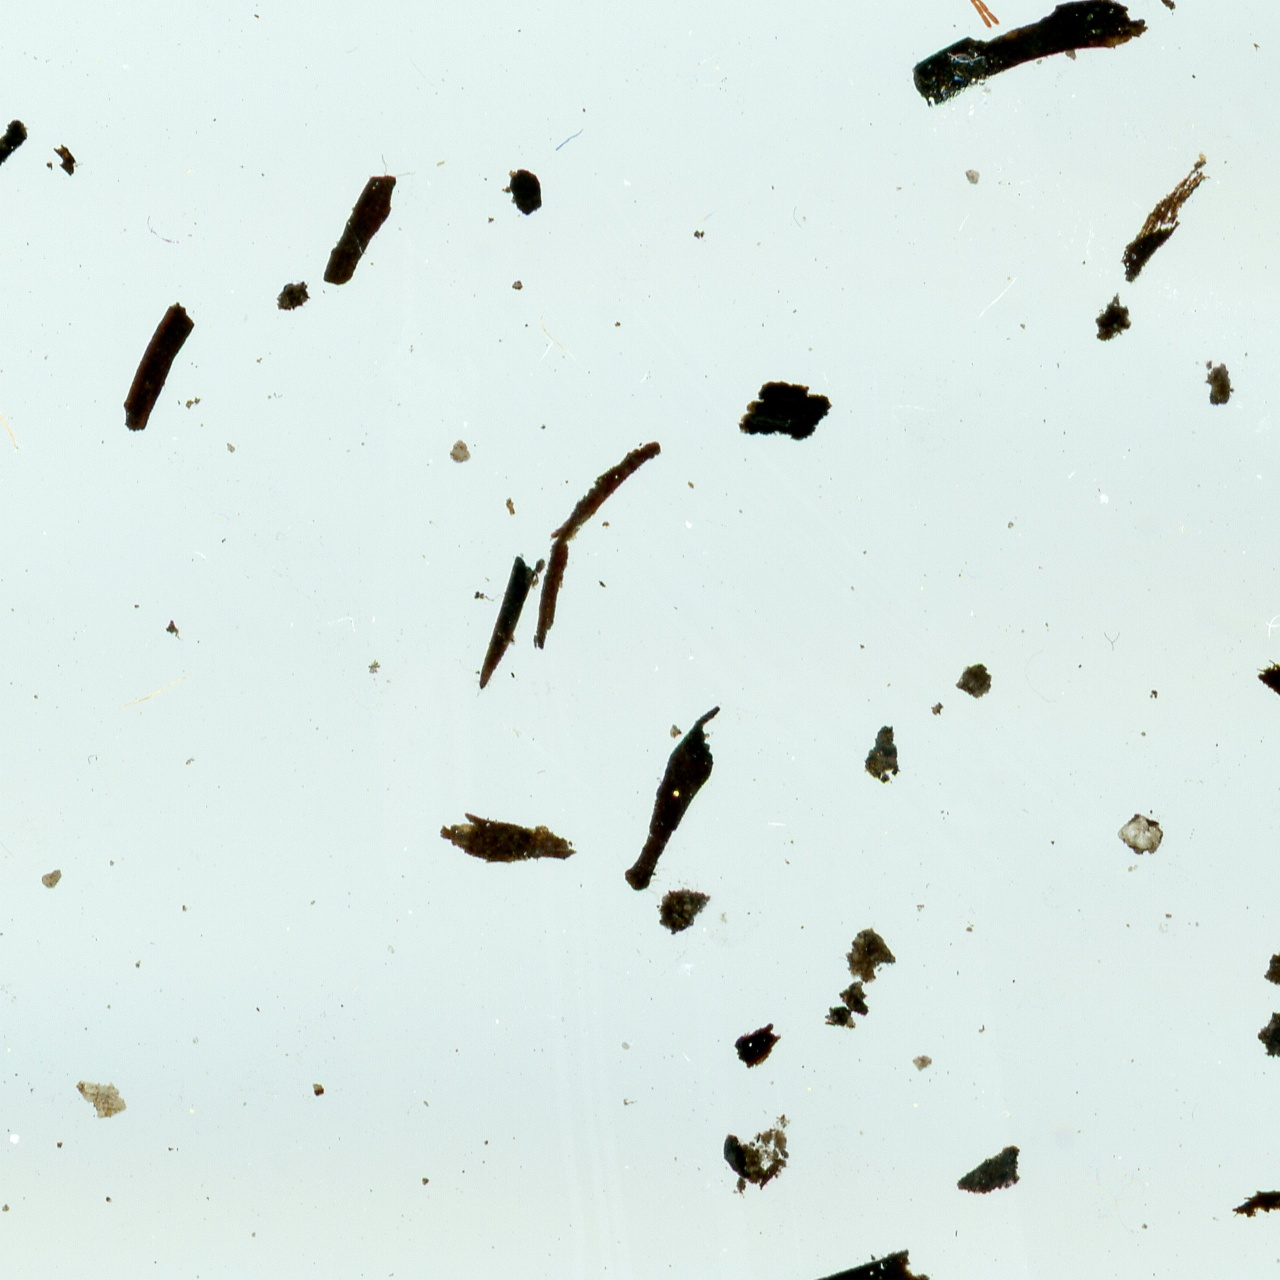arthropod: (914, 0, 1015, 29)
